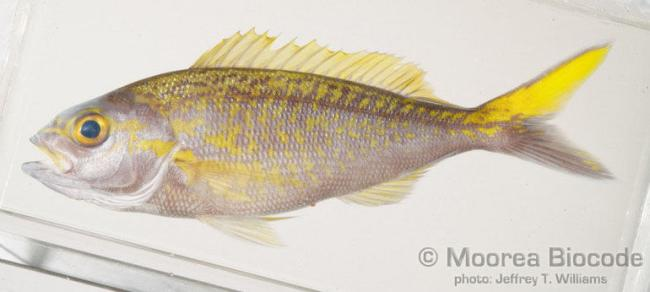fish: (22, 26, 619, 251)
